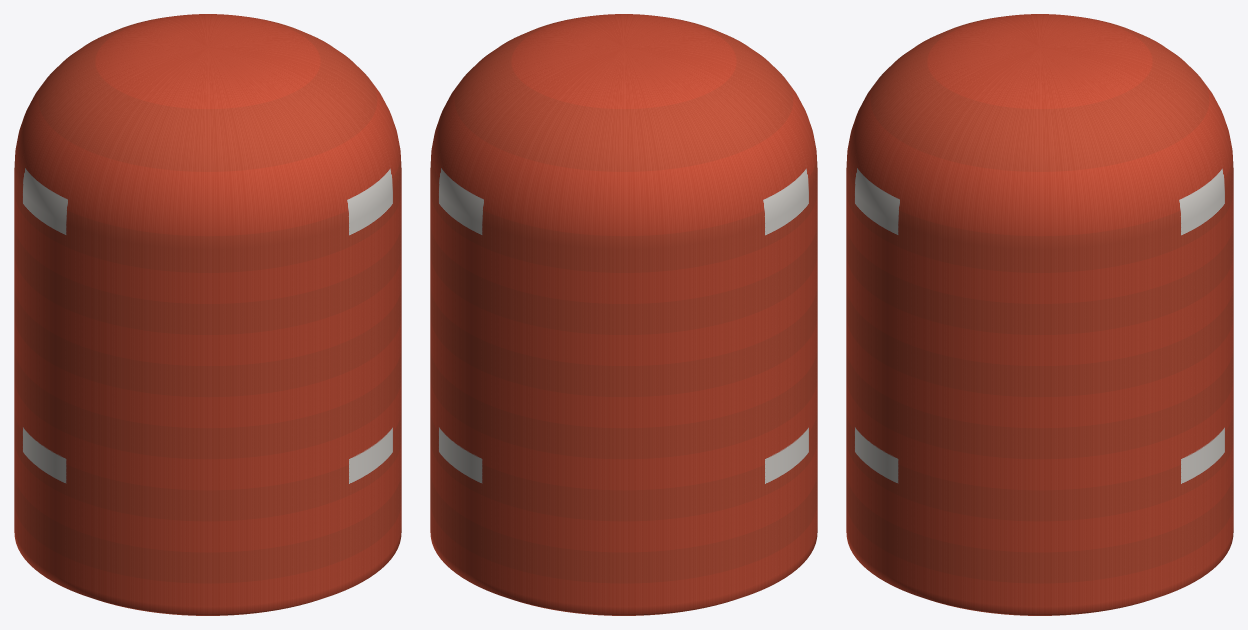
Rendered from testobject.obj.
3 renders of one model, left to right at view 1: azimuth 30°, elevation 25°; view 2: azimuth 150°, elevation 25°; view 3: azimuth 270°, elevation 25°, orthographic.
Visible parts, largest first — view 1: TestObject; view 2: TestObject; view 3: TestObject.
Part boxes in pixels (bbox=[...]): TestObject: bbox=[14, 14, 401, 615]; TestObject: bbox=[430, 14, 817, 615]; TestObject: bbox=[846, 14, 1233, 615].
Size of the model in its own units: 1.24 by 1.8 by 1.24.
Materials: 1 (1 with a texture image).
